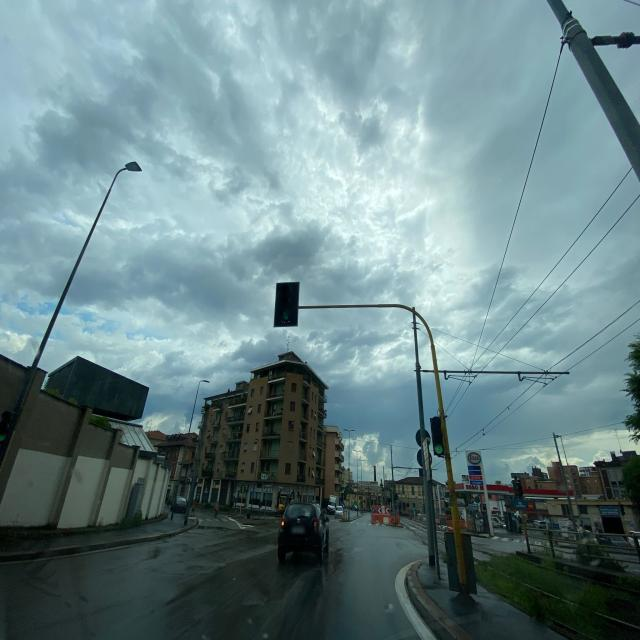car: (277, 502, 330, 564)
